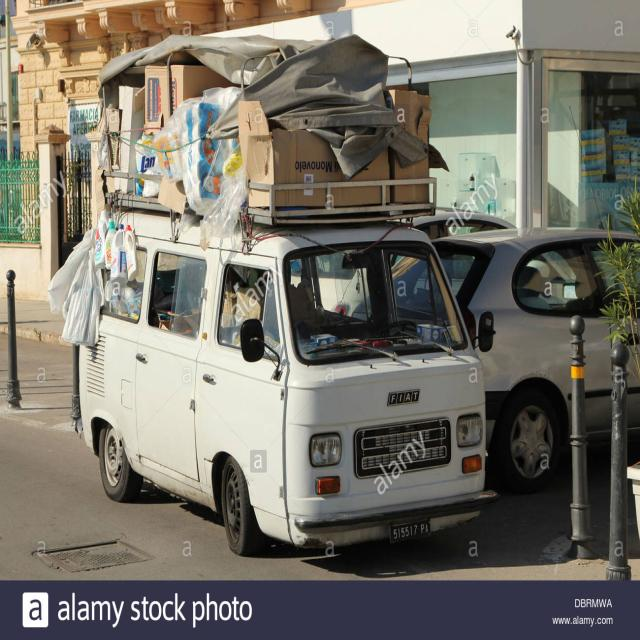overloaded_truck: (17, 0, 576, 621)
